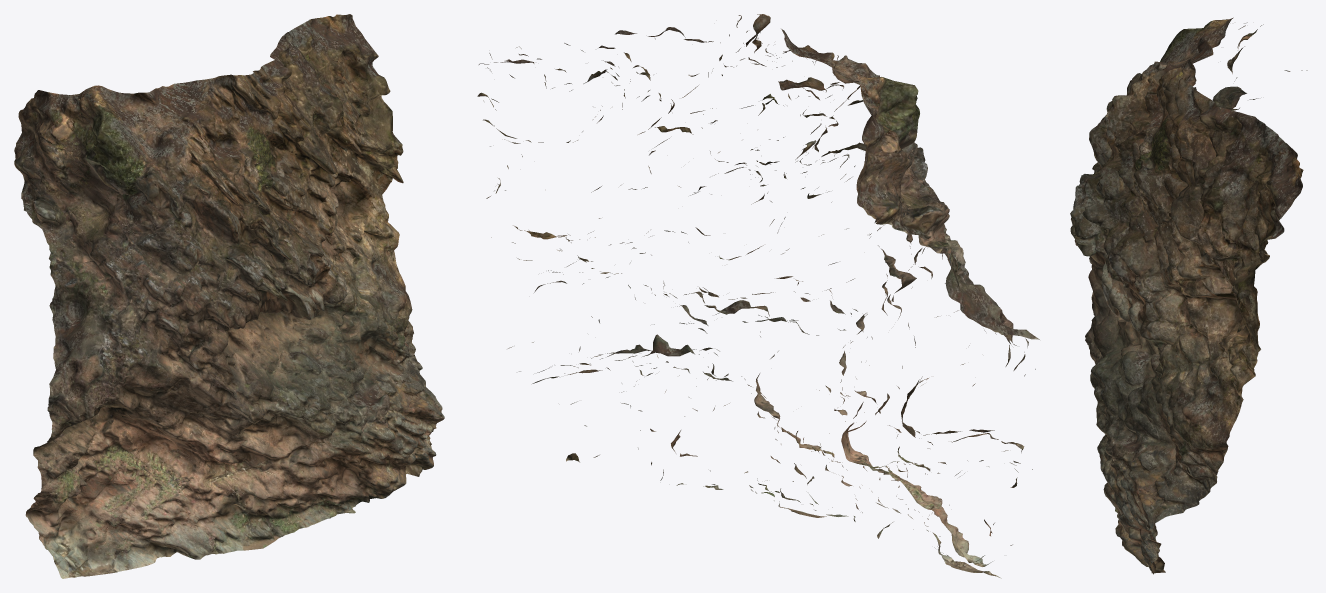
Rendered from hill_crag.glb.
3 views of the same model, side by side, from view 1: azimuth 30°, elevation 25°; view 2: azimuth 150°, elevation 25°; view 3: azimuth 270°, elevation 25° (orthographic). The views are drawn at different scales.
Parts seen in each view (by area): view 1: hill_crag; view 2: hill_crag; view 3: hill_crag.
Boxes of the visible parts, left/top/right/bottom form: hill_crag: left=14, top=14, right=444, bottom=578; hill_crag: left=477, top=14, right=1039, bottom=578; hill_crag: left=1070, top=17, right=1307, bottom=574.
Size of the model in its own units: 10.21 by 10.52 by 5.25.
1 material, 1 textured.
